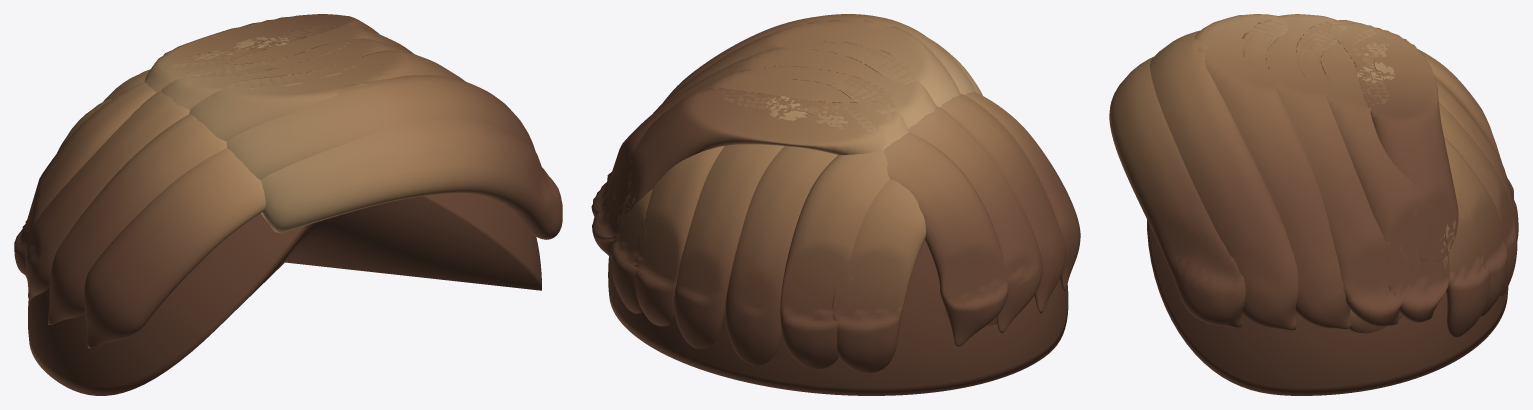
Rendered from Masculine-sidepart-bucket258-hair-ombre.glb.
3 renders of one model, left to right at view 1: azimuth 30°, elevation 25°; view 2: azimuth 150°, elevation 25°; view 3: azimuth 270°, elevation 25°, orthographic. The views are drawn at different scales.
Parts seen in each view (by area): view 1: 226 hair / Hair258 / sculpted side sweep 1, 226 hair / Hair258 / recessed roots, 226 hair / Hair258 / sculpted side sweep 0, 226 hair / Hair258 / sculpted side sweep 2; view 2: 226 hair / Hair258 / sculpted side sweep 0, 226 hair / Hair258 / sculpted side sweep 1, 226 hair / Hair258 / sculpted side sweep 2, 226 hair / Hair258 / recessed roots; view 3: 226 hair / Hair258 / sculpted side sweep 0, 226 hair / Hair258 / sculpted side sweep 1, 226 hair / Hair258 / sculpted side sweep 2, 226 hair / Hair258 / recessed roots.
Boxes of the visible parts, x1,y1,x2,y2 form: 226 hair / Hair258 / sculpted side sweep 1: (14,38,562,348); 226 hair / Hair258 / recessed roots: (28,193,541,395); 226 hair / Hair258 / sculpted side sweep 0: (48,14,535,324); 226 hair / Hair258 / sculpted side sweep 2: (25,36,465,300); 226 hair / Hair258 / sculpted side sweep 0: (592,14,1066,369); 226 hair / Hair258 / sculpted side sweep 1: (591,38,1080,365); 226 hair / Hair258 / sculpted side sweep 2: (653,19,1042,373); 226 hair / Hair258 / recessed roots: (608,240,1068,395); 226 hair / Hair258 / sculpted side sweep 0: (1150,20,1513,333); 226 hair / Hair258 / sculpted side sweep 1: (1109,14,1518,337); 226 hair / Hair258 / sculpted side sweep 2: (1194,14,1517,329); 226 hair / Hair258 / recessed roots: (1147,220,1508,395).
Bounding box in the file's own units: 0.9741 × 0.5388 × 0.7913.
